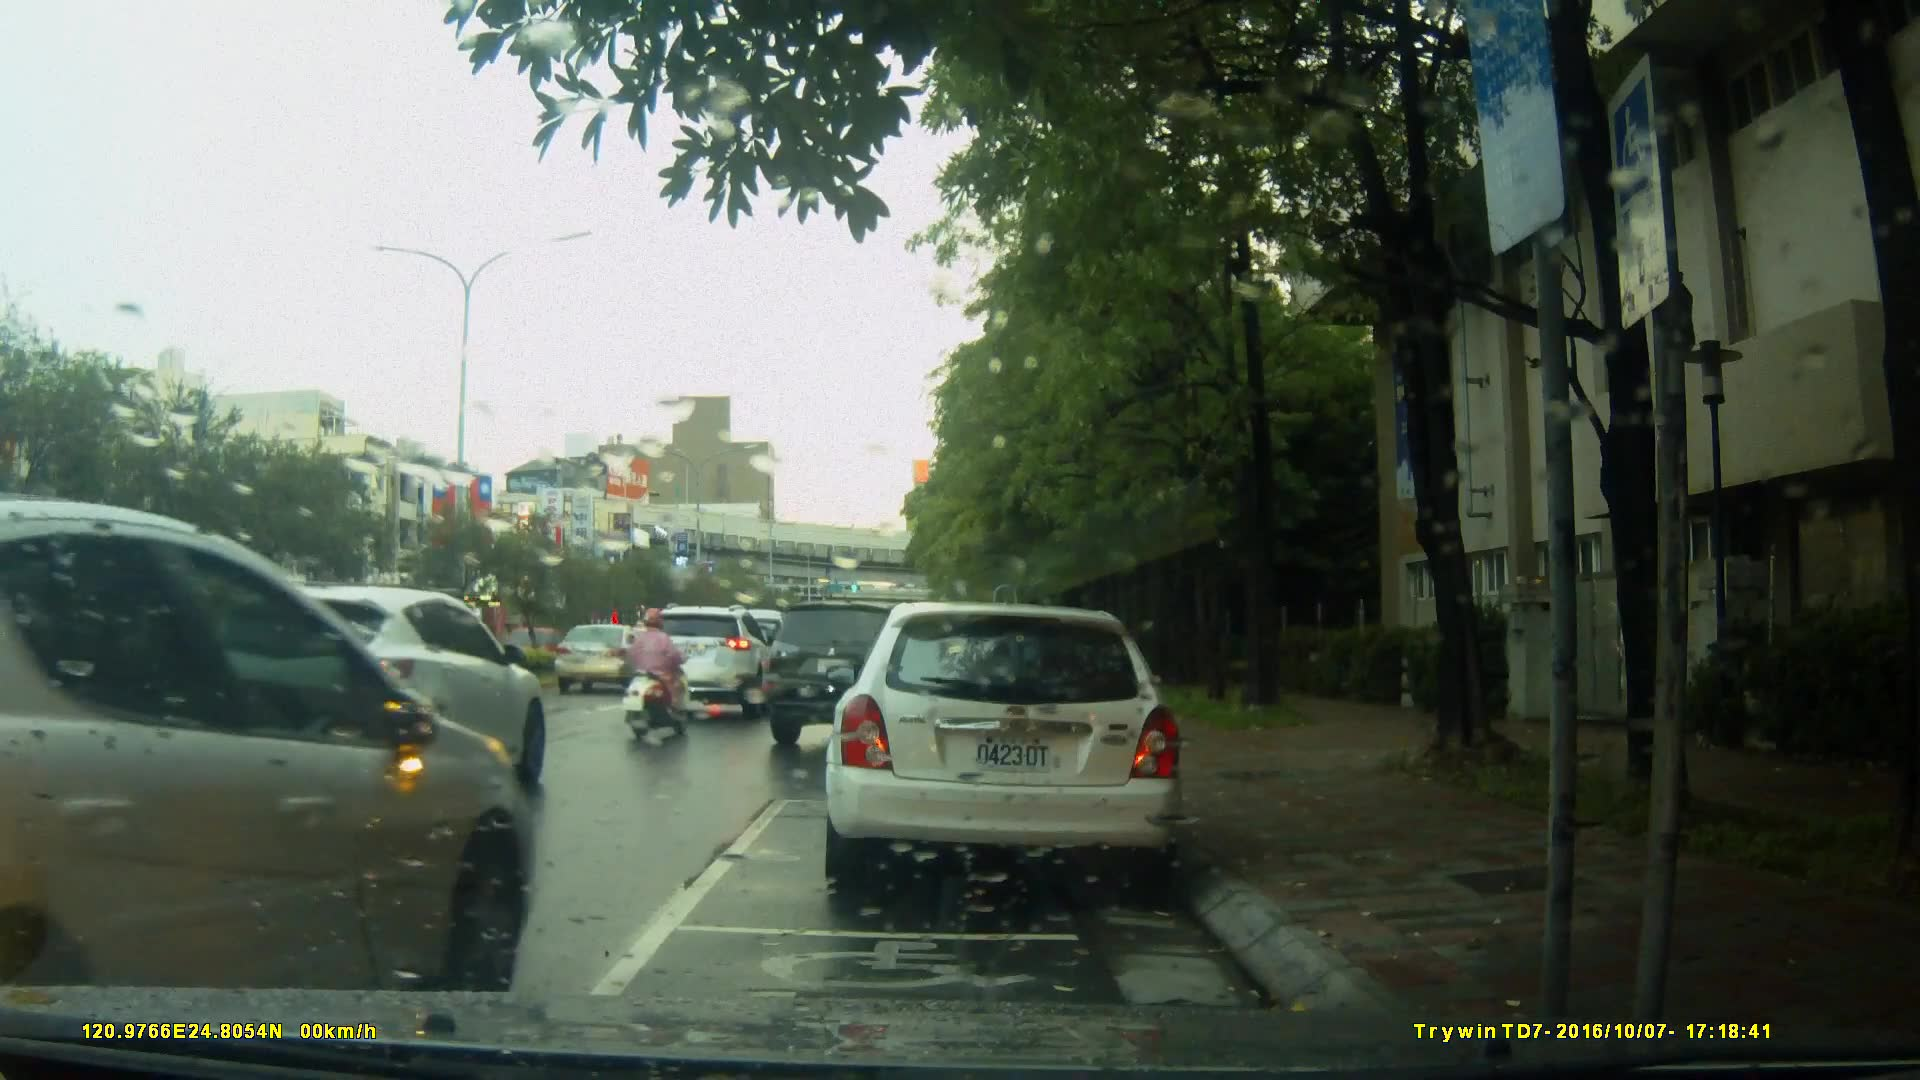rider: (625, 604, 694, 747)
vehicle: (1, 492, 540, 992), (820, 602, 1188, 898), (181, 582, 549, 805), (760, 600, 985, 754), (638, 606, 781, 721), (550, 621, 654, 695)
